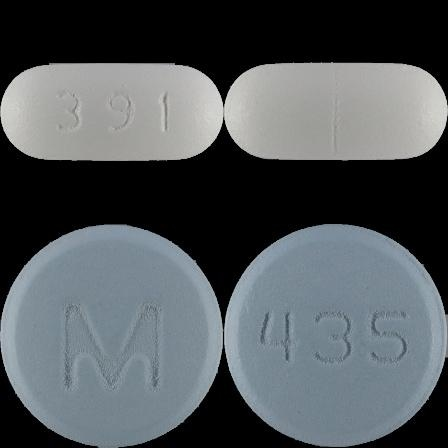54868-4548: (0, 0, 224, 224)
